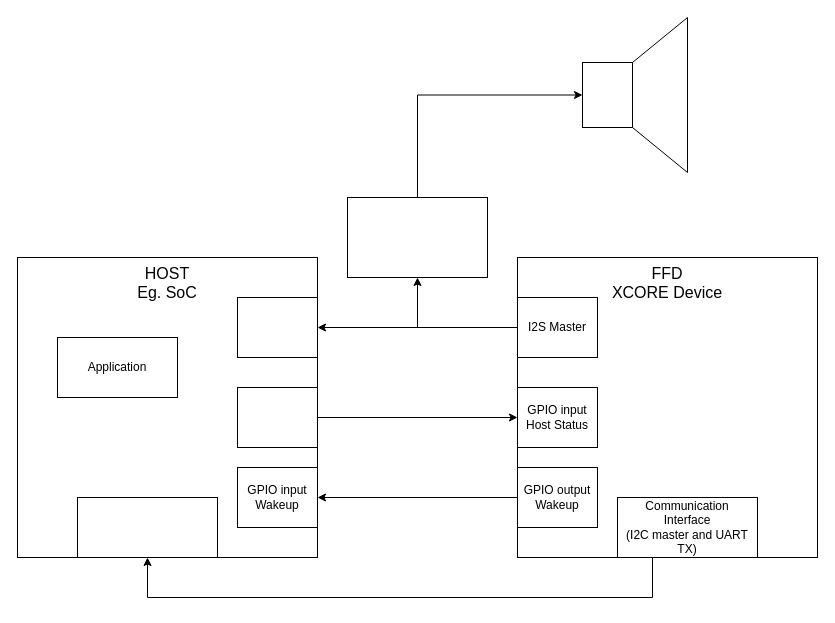
The diagram is 835 pixels wide and 623 high, and some of its shapes have lost their labels. Each missing label, with the centre of its shape:
Communication Interface (I2C slave or UART RX): (147,527)
DAC: (417,237)
GPIO output Host Status: (277,417)
I2S Slave: (277,327)
